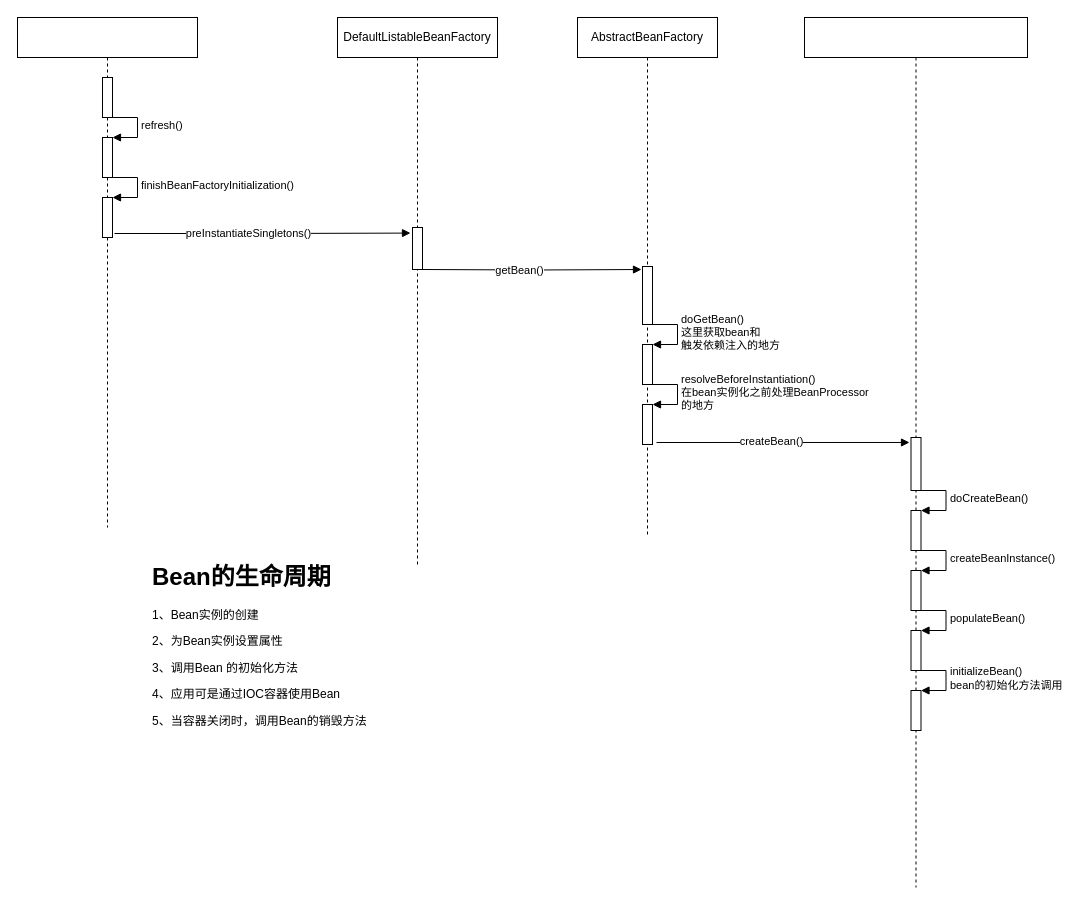
Some shapes in this 1079 by 905 pixel diagram are drawn without their labels. Each missing label, with the centre of its shape:
"AbstractApplicationContext" belongs at (x=107, y=272).
"AbstractAutowireCapableBeanFactory" belongs at (x=916, y=452).
